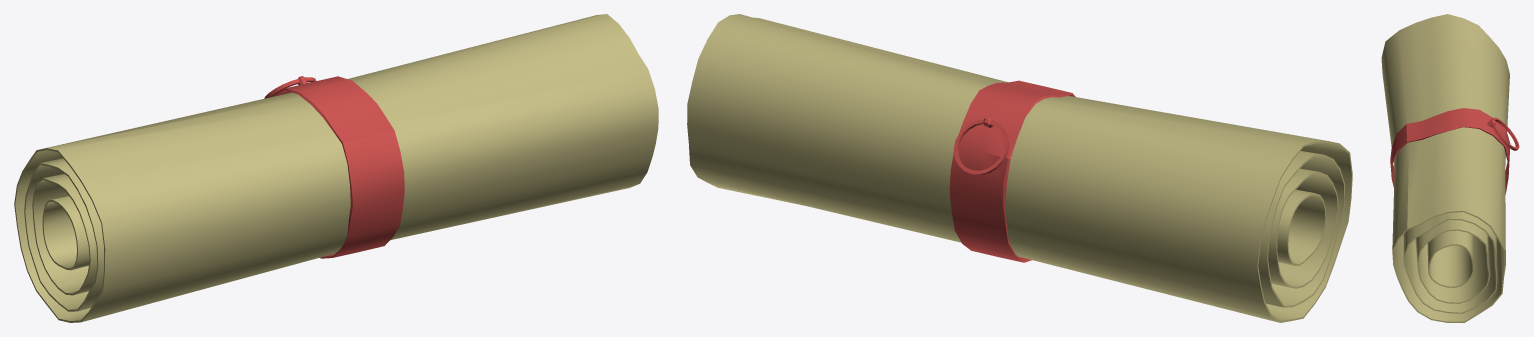
The model's file is PaperRoll.fbx.
3 renders of one model, left to right at view 1: azimuth 30°, elevation 25°; view 2: azimuth 150°, elevation 25°; view 3: azimuth 270°, elevation 25°, orthographic. The views are drawn at different scales.
Parts seen in each view (by area): view 1: Circle.003; view 2: Circle.003; view 3: Circle.003.
Boxes of the visible parts, x1=… form: Circle.003: x1=14, y1=14, x2=658, y2=322; Circle.003: x1=687, y1=14, x2=1352, y2=322; Circle.003: x1=1381, y1=14, x2=1519, y2=322.
Bounding box in the file's own units: 522 × 150 × 159.
